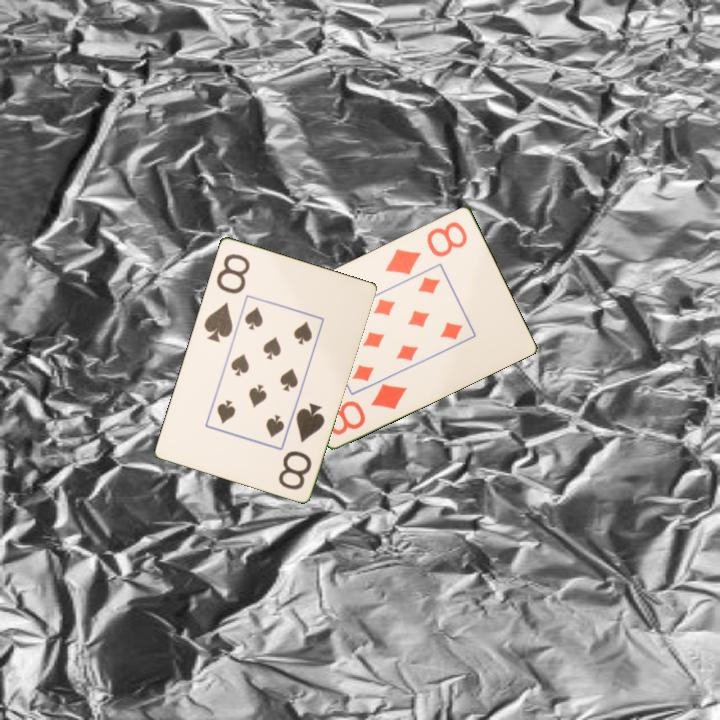8d: (381, 218, 470, 277), (322, 379, 410, 438)
8s: (200, 250, 253, 345), (274, 399, 327, 492)
